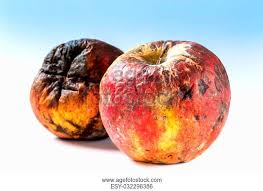damaged_apple: (98, 43, 227, 165), (31, 40, 128, 154)
